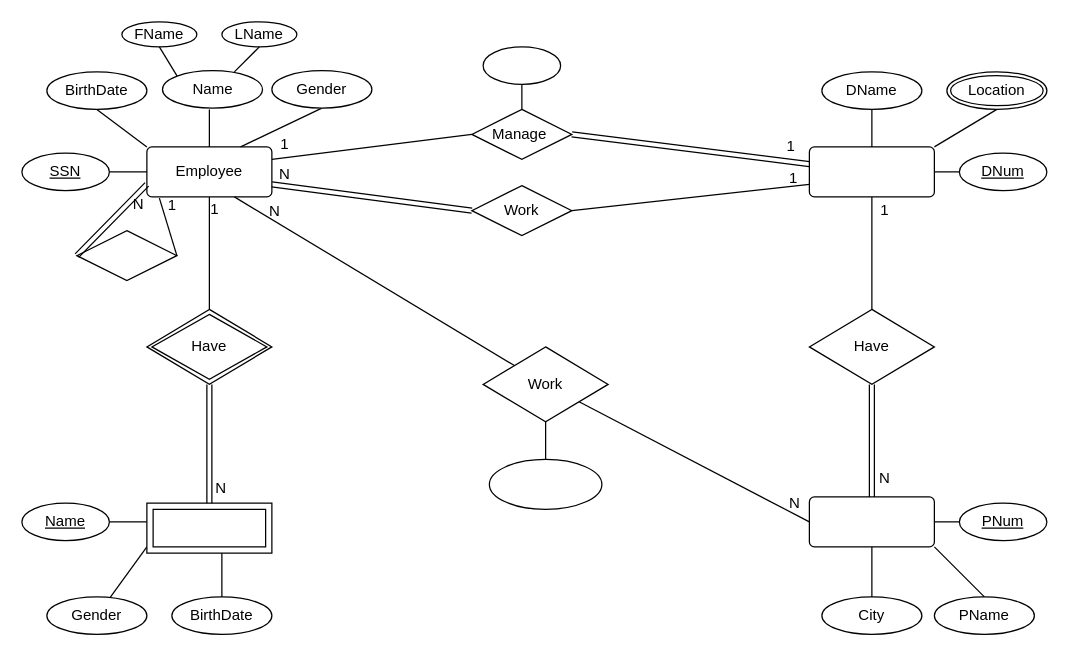
Image size: 1069x656. Some labels were removed from this diagram. Each missing label, with the centre of its shape:
Department: point (871, 171)
Dependent: point (209, 527)
Hire Date: point (521, 65)
Project: point (871, 521)
Supervise: point (126, 255)
Working Hours: point (545, 483)
